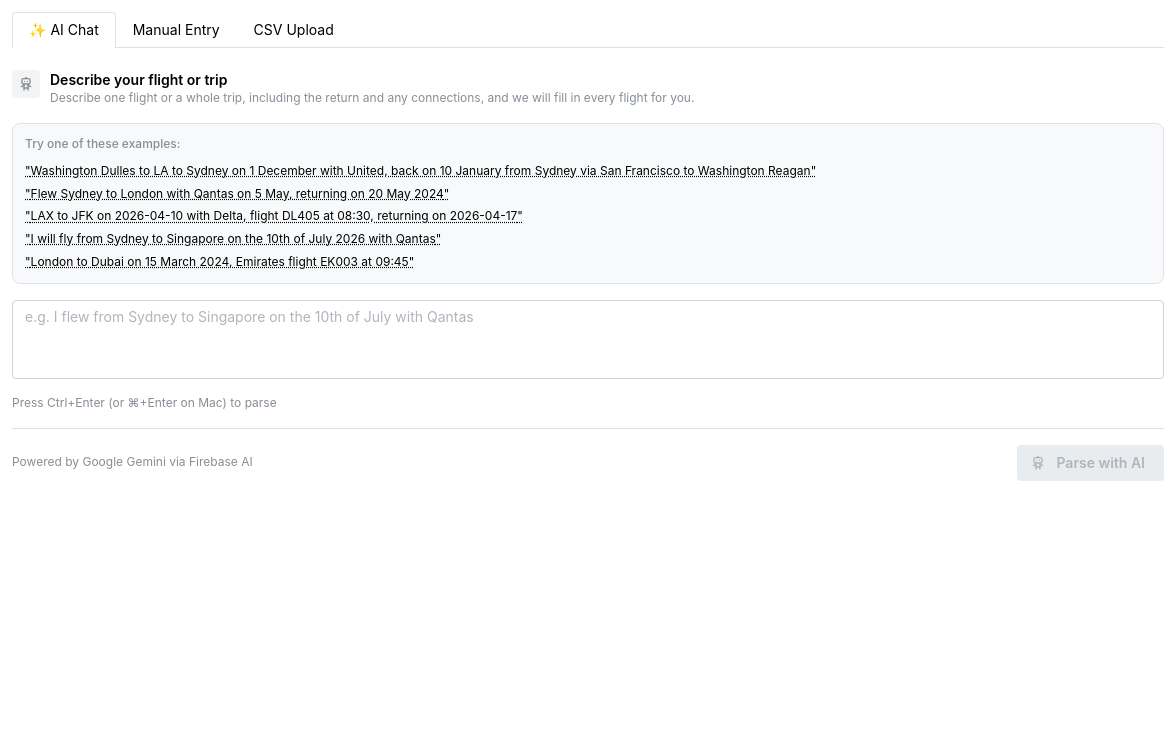
Test case: FlightEntryForm – AI tab integration › pre-fills the form and switches to Manual Entry after confirming
Step 1. Click the tab "✨ AI Chat" → (64, 30), box [12,12,116,48]
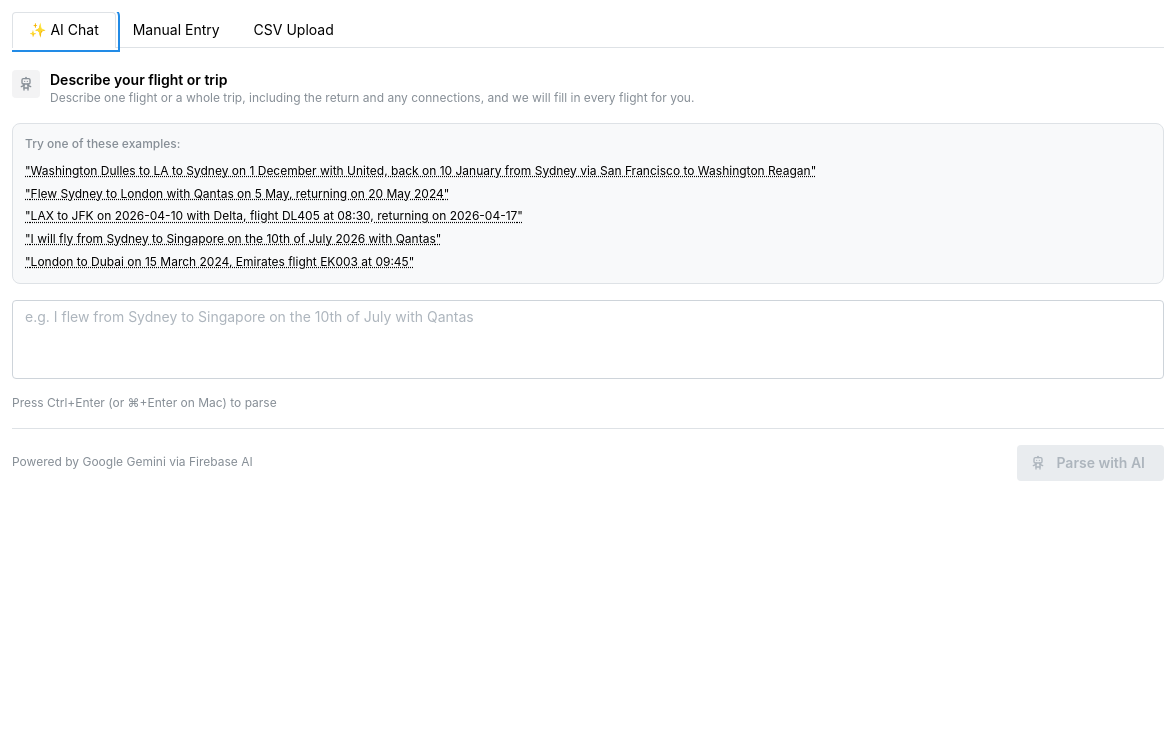
Expected: the button "Parse with AI" is shown, [1018,445,1164,481]
Step 2. Type "SYD to SIN on 10 July with Qantas" into the text box → (588, 339), box [12,300,1164,379]
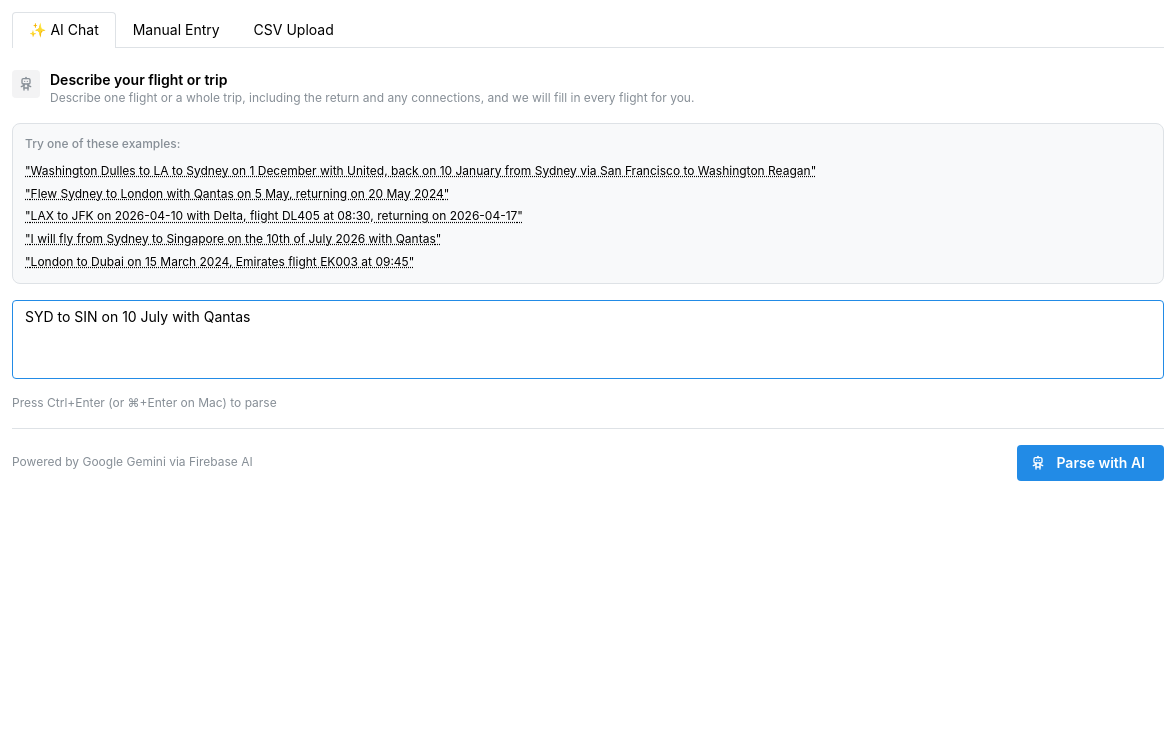
Step 3. Click the button "Parse with AI" → (1091, 463), box [1018,445,1164,481]
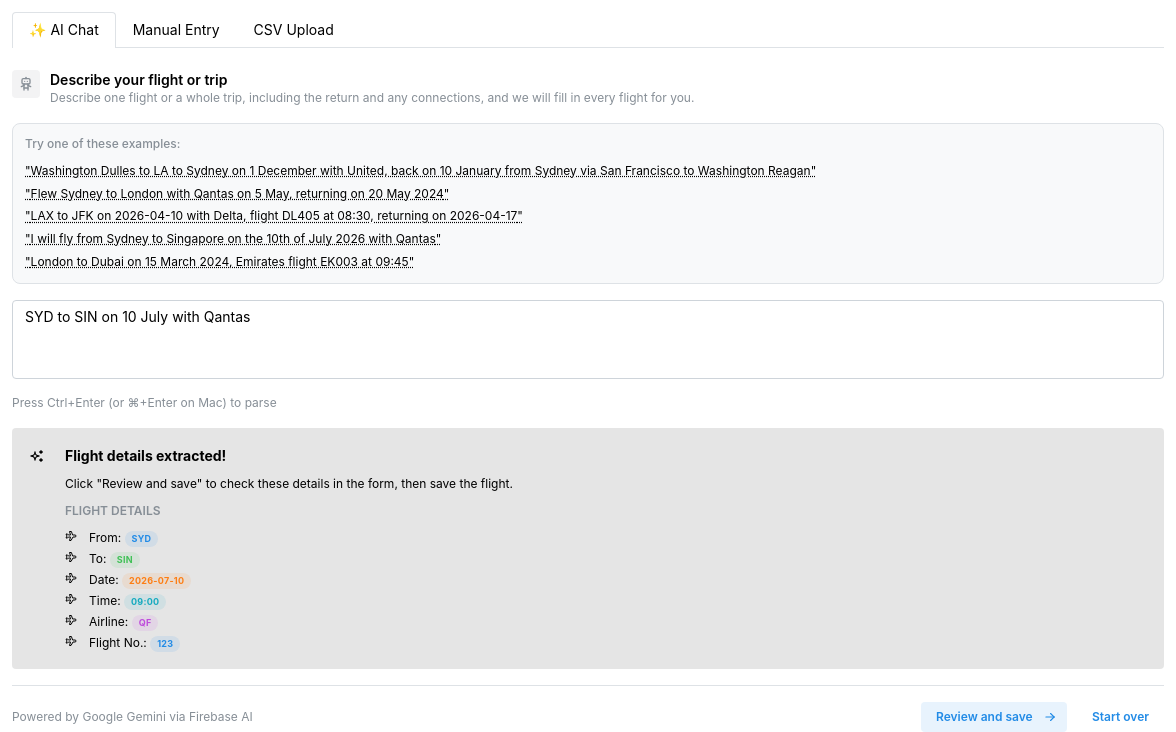
Result: the button "Review and save" is shown
Step 4. Click the button "Review and save" → (994, 717), box [921,702,1067,731]
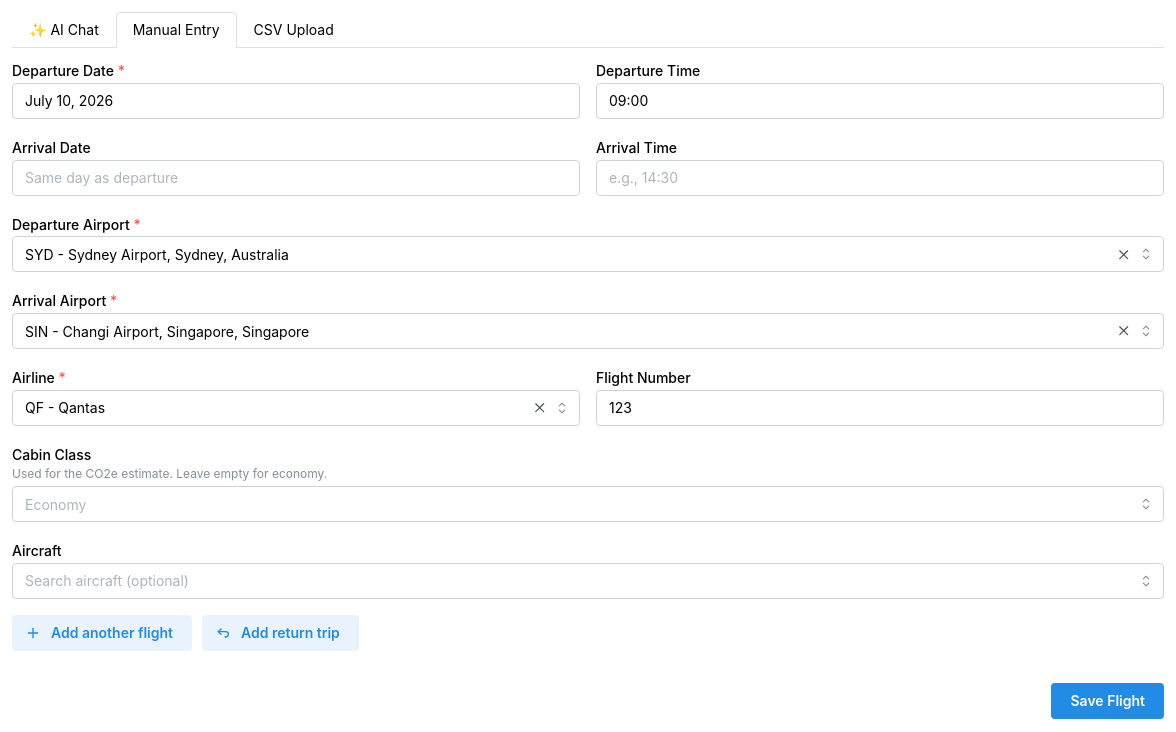
Result: the field labelled "Departure Airport *" is enabled at [12,236,1164,272]
Result: the field labelled "Arrival Airport *" is enabled at [12,313,1164,349]
Result: the field labelled "Airline *" is enabled at [12,390,580,426]
